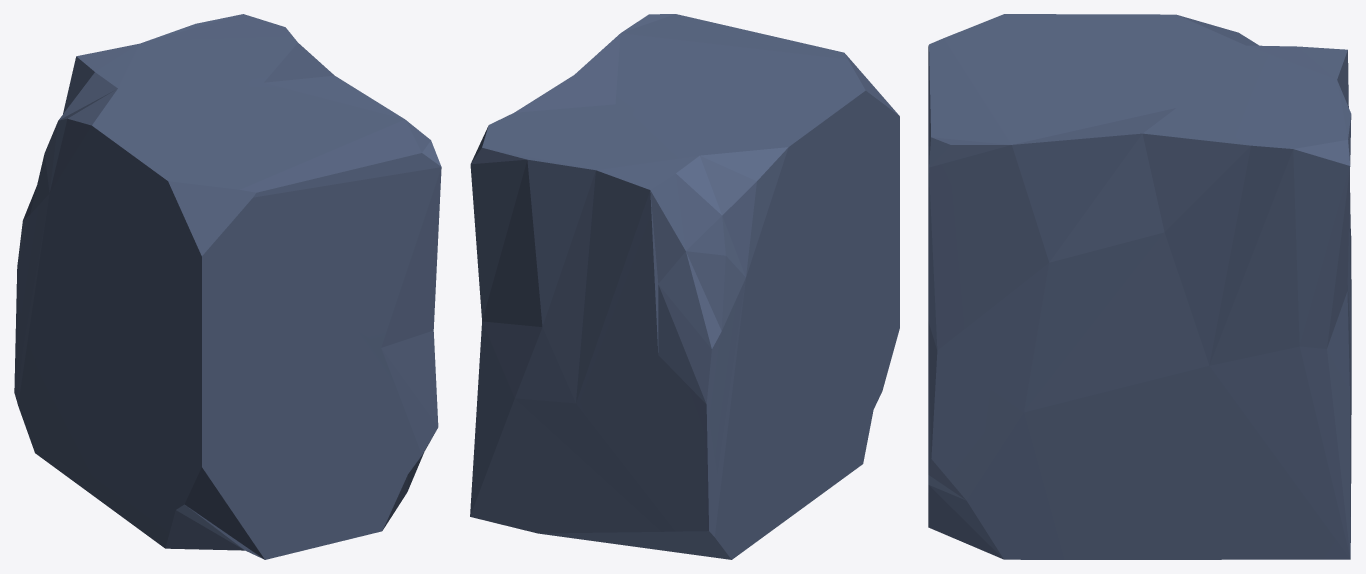
File: BigRock04.fbx
3 renders of one model, left to right at view 1: azimuth 30°, elevation 25°; view 2: azimuth 150°, elevation 25°; view 3: azimuth 270°, elevation 25°, orthographic. The views are drawn at different scales.
Visible parts, largest first — view 1: BigRock_04; view 2: BigRock_04; view 3: BigRock_04.
Part boxes in pixels (x1,y1,x2,y2): BigRock_04: (14,14,441,559); BigRock_04: (470,14,899,559); BigRock_04: (928,14,1351,559).
Bounding box in the file's own units: 326 × 473 × 433.
